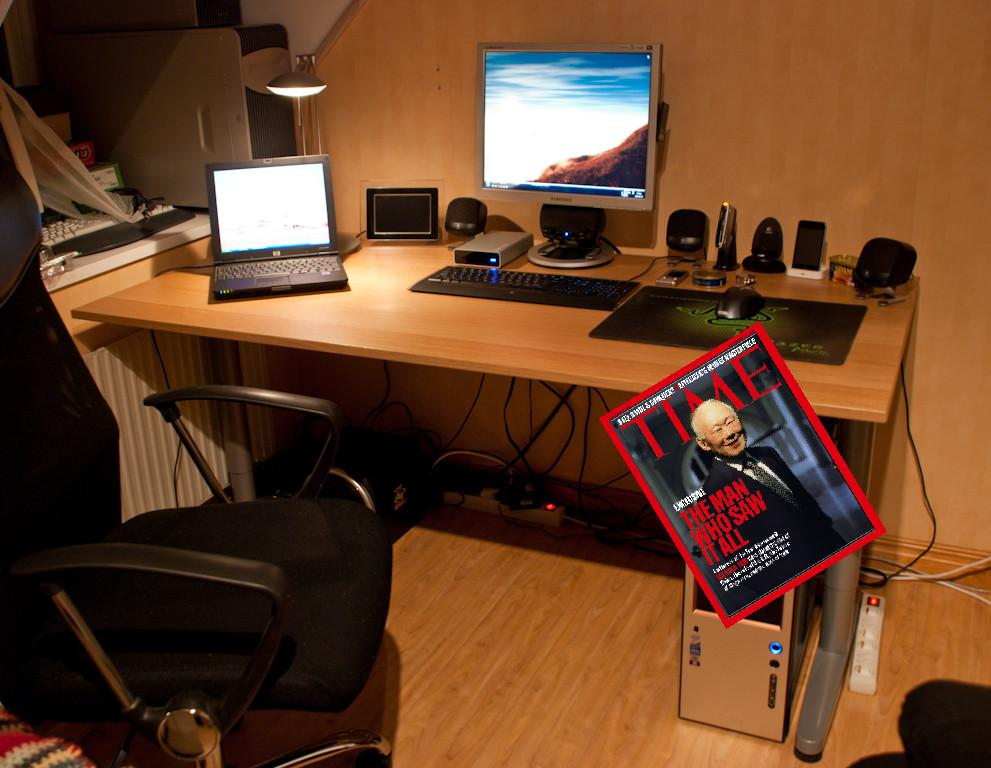times: (592, 316, 887, 629)
